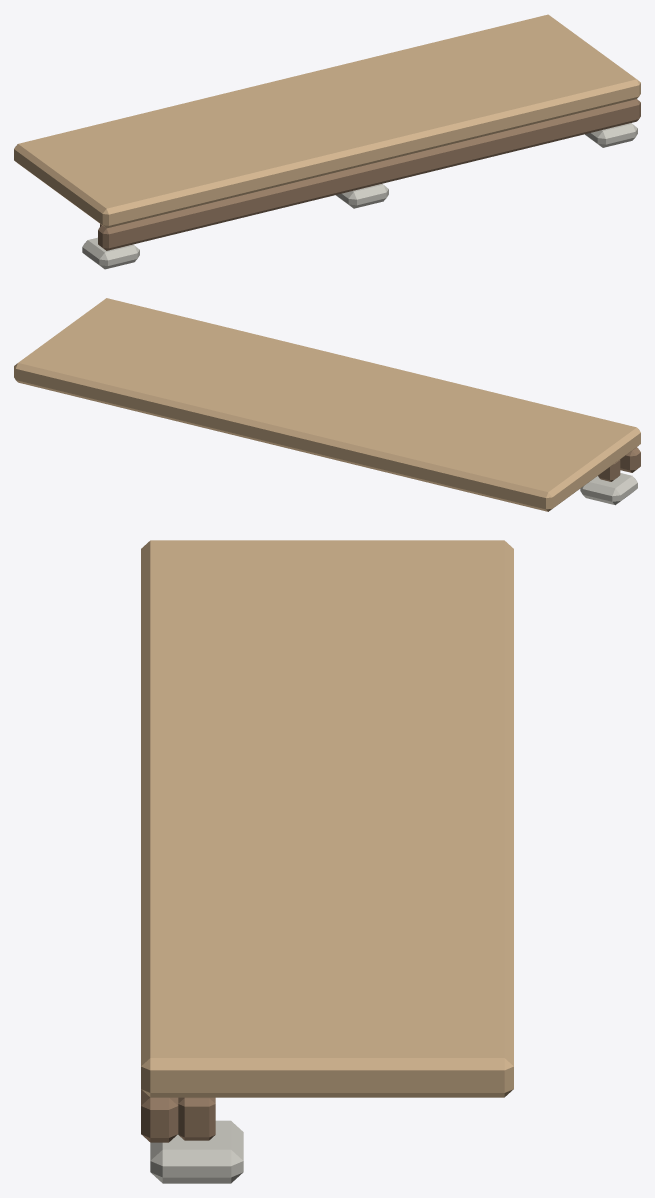
Rendered from feudal-japan-castle-town-engawa-deck-b96c8790__26302.glb.
3 views of the same model, one above another, from view 1: azimuth 30°, elevation 25°; view 2: azimuth 150°, elevation 25°; view 3: azimuth 270°, elevation 25° (orthographic). The views are drawn at different scales.
Parts seen in each view (by area): view 1: engawa-deck; view 2: engawa-deck; view 3: engawa-deck.
Part boxes in pixels (x1,y1,x2,y2): engawa-deck: (14, 14, 640, 269); engawa-deck: (14, 298, 640, 511); engawa-deck: (141, 540, 513, 1183).
Bounding box in the file's own units: 4 × 0.4501 × 1.2.
